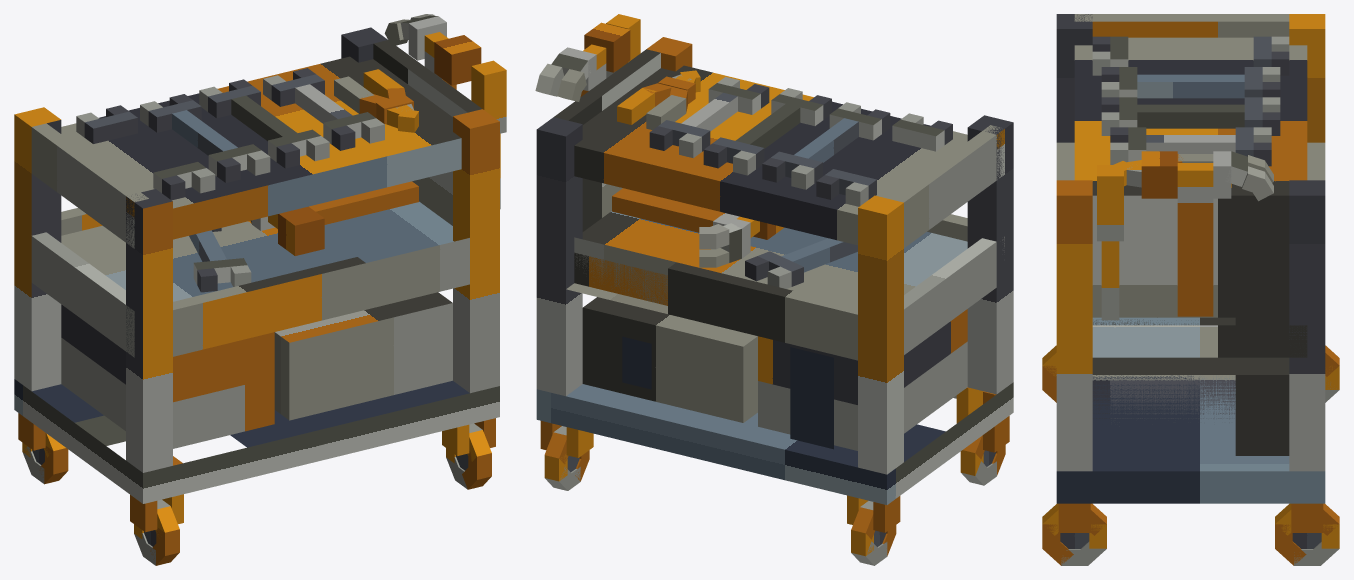
Rendered from vehicle_manufacturing_table.obj.
3 renders of one model, left to right at view 1: azimuth 30°, elevation 25°; view 2: azimuth 150°, elevation 25°; view 3: azimuth 270°, elevation 25°, orthographic. The views are drawn at different scales.
Visible parts, largest first — view 1: workstation; view 2: workstation; view 3: workstation.
Boxes of the visible parts, x1,y1,x2,y2 form: workstation: (14,14,506,565); workstation: (535,14,1013,565); workstation: (1042,14,1339,565).
Bounding box in the file's own units: 1.1 × 1.1 × 0.709.
